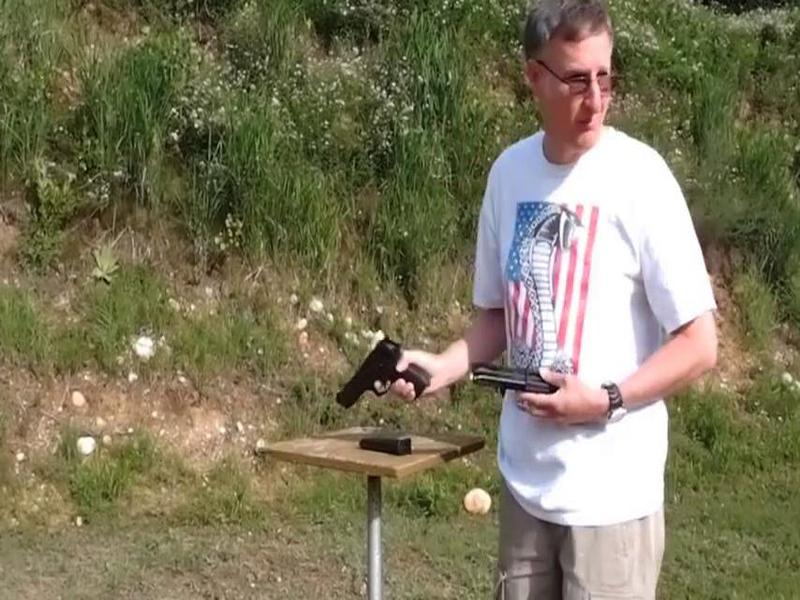Pistola: (340, 322, 432, 424)
